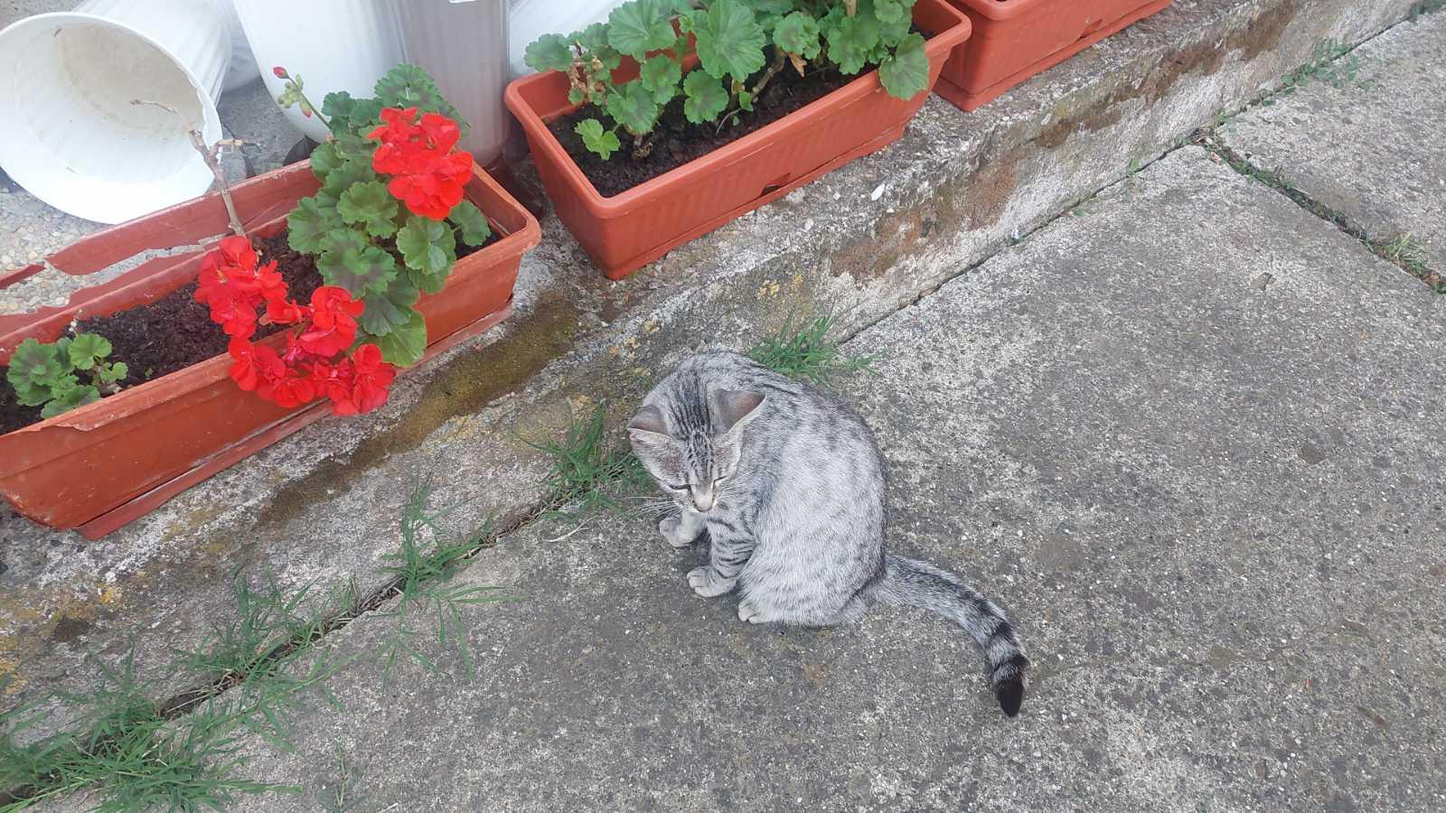macka: (627, 353, 1027, 723)
